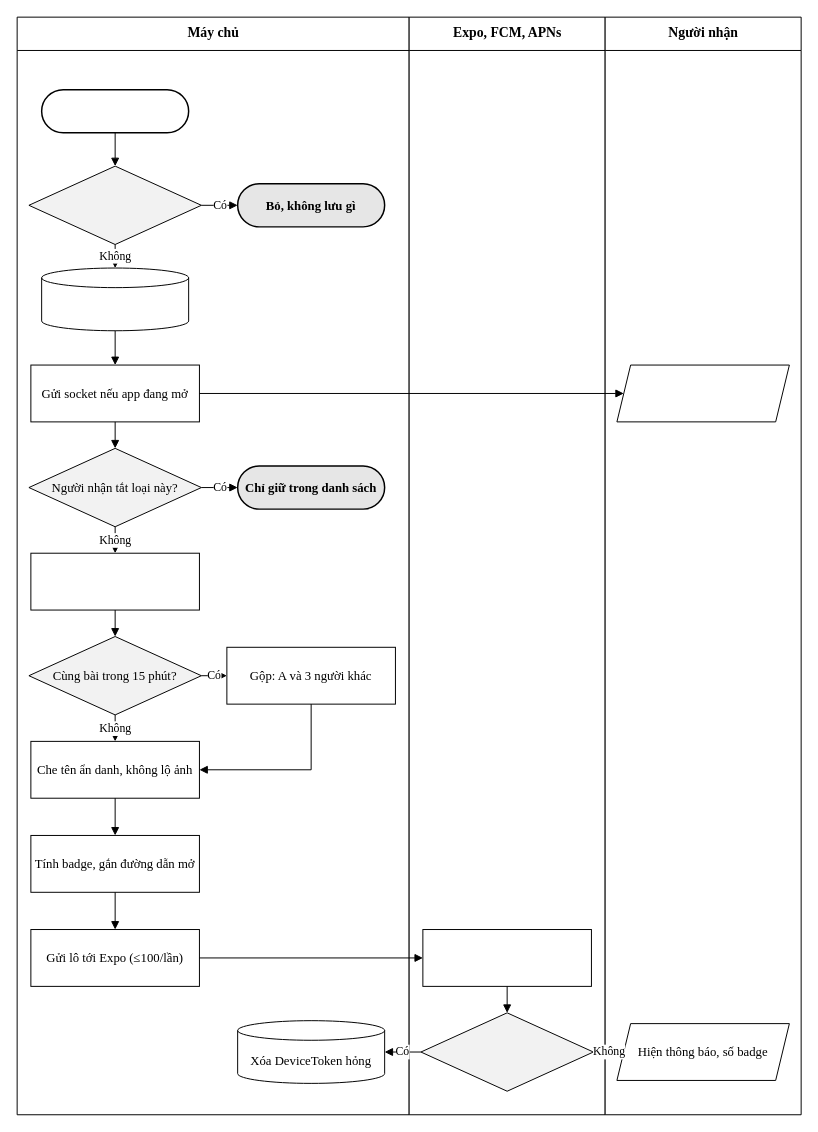
Image size: 818x1132. Some labels were removed from this diagram. Here are the shapes that lost their labels. From the top down, the centre of each, then its label:
point 114,110: Sự kiện: thích, bình luận, tin nhắn...
point 114,205: Tự gửi mình hoặc bị chặn?
point 115,299: Lưu Notification
point 702,393: Hiện ngay trong app
point 114,581: Giờ yên lặng: gửi không âm thanh
point 506,957: Chuyển qua FCM hoặc APNs
point 506,1051: Biên nhận: token hỏng?
